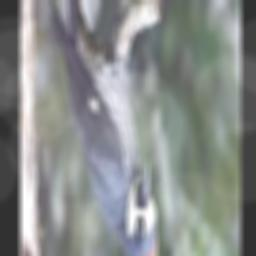Woodpecker: (48, 0, 156, 256)
